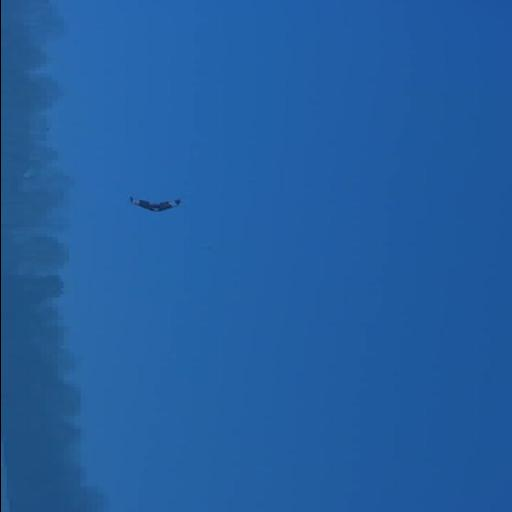uav: (117, 195, 187, 218)
